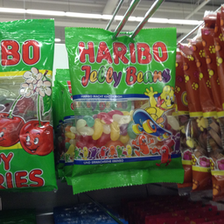candy: (66, 26, 184, 188), (1, 15, 56, 189)
